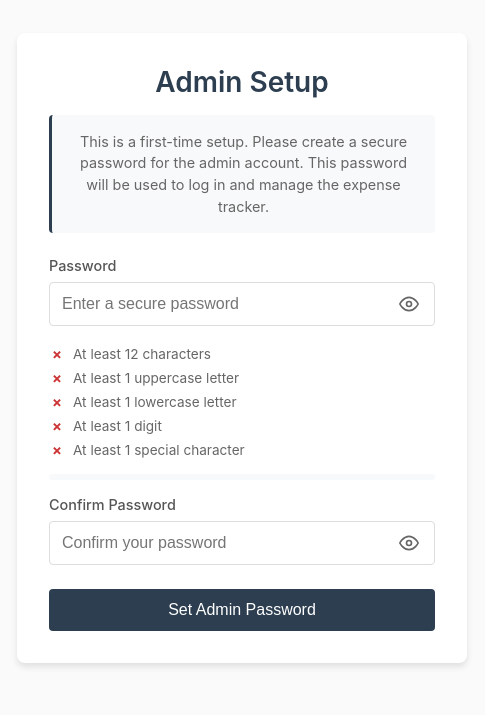
Test case: AdminSetupPage › Setup flow › displays error message on setup failure
In the password field labelled "Password": (242, 304) [49,282,435,326], type "ValidPass123!"
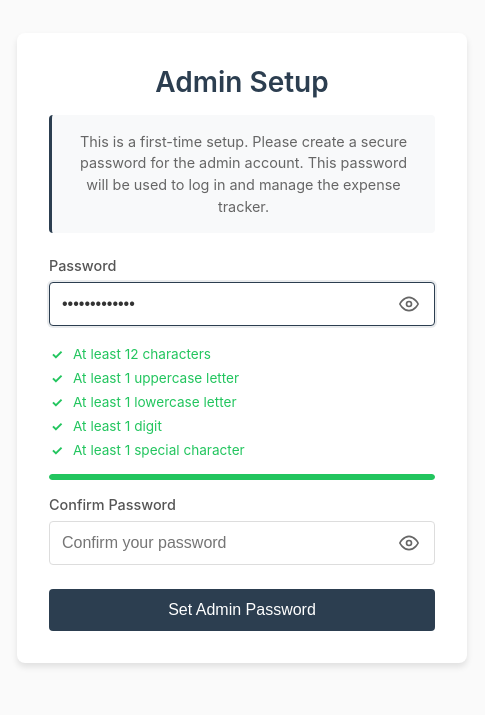
In the password field labelled "Confirm Password": (242, 543) [49,521,435,565], type "ValidPass123!"
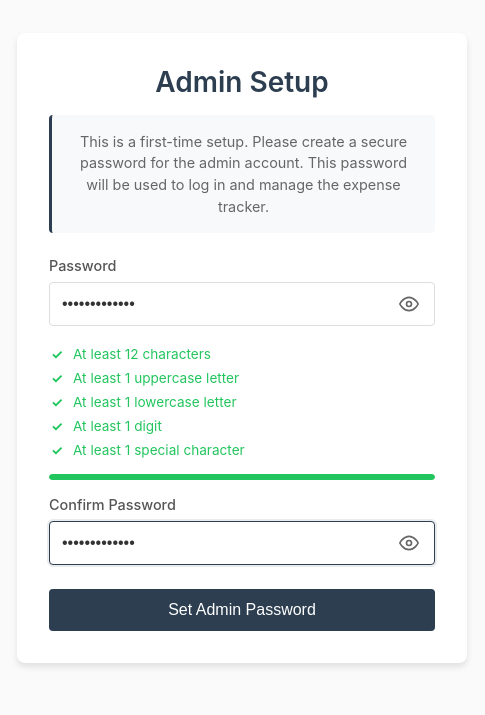
Click the button "Set Admin Password": (242, 610) [49,589,435,631]
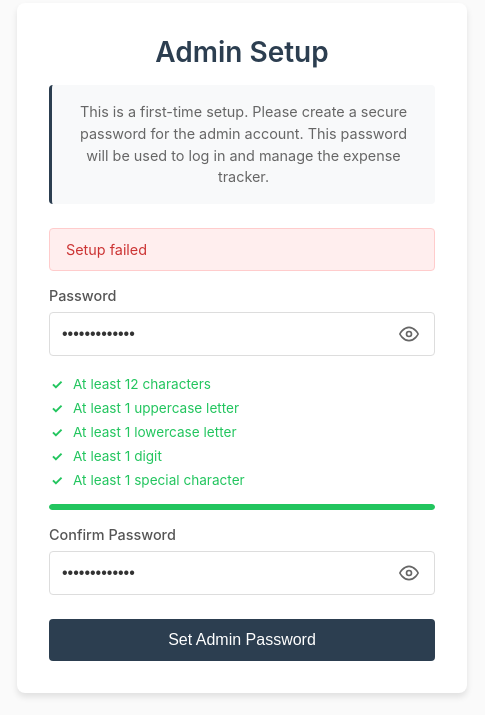
Now the message "Setup failed" is shown, box [49,228,435,271]
